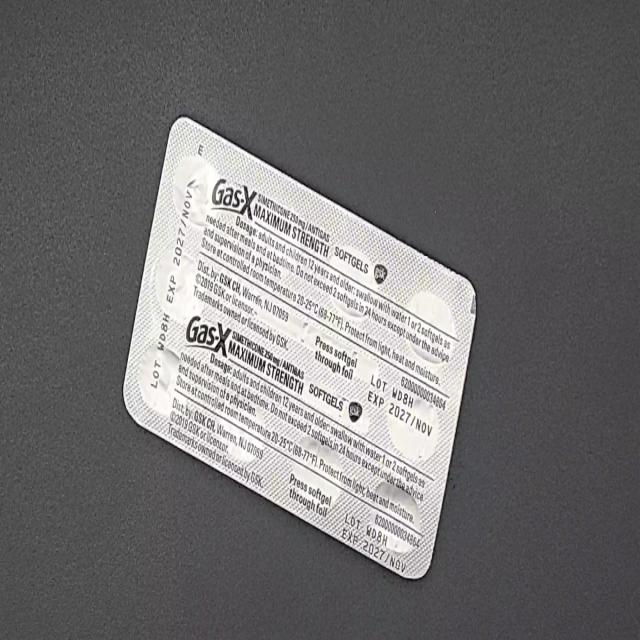no defect: (6, 9, 28, 57)
